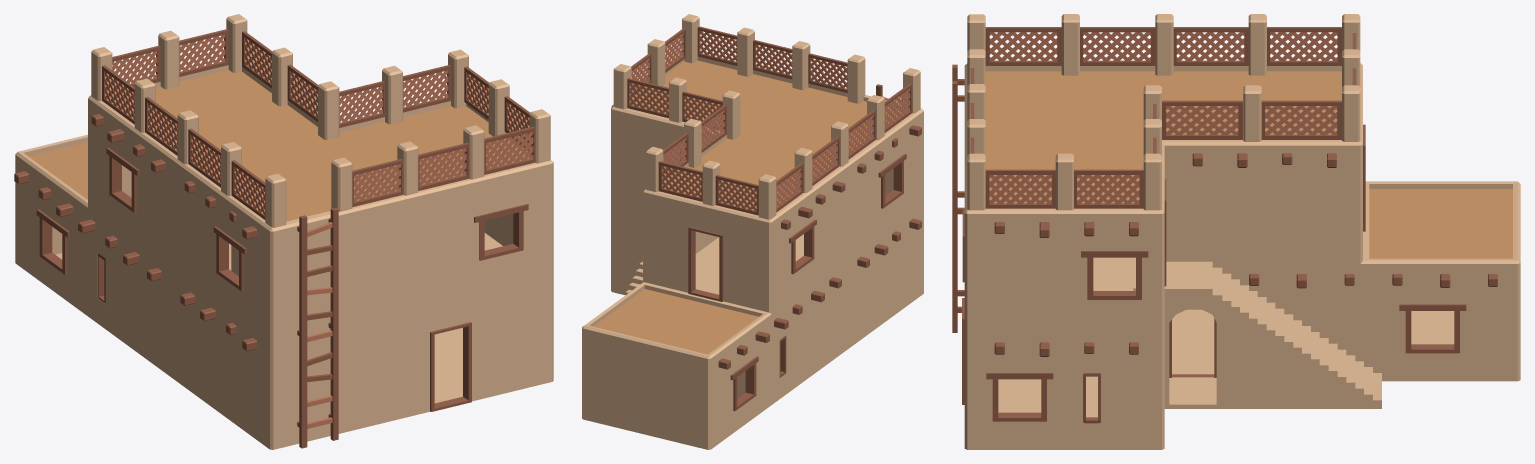
File: Large Building Frame A.fbx
3 views of the same model, side by side, from view 1: azimuth 30°, elevation 25°; view 2: azimuth 150°, elevation 25°; view 3: azimuth 270°, elevation 25° (orthographic). The views are drawn at different scales.
Visible parts, largest first — view 1: Large Building Frame A; view 2: Large Building Frame A; view 3: Large Building Frame A.
Boxes of the visible parts, x1=… form: Large Building Frame A: x1=14, y1=14, x2=553, y2=449; Large Building Frame A: x1=582, y1=14, x2=923, y2=449; Large Building Frame A: x1=952, y1=14, x2=1520, y2=449.
Size of the model in its own units: 963 by 790 by 1410.
